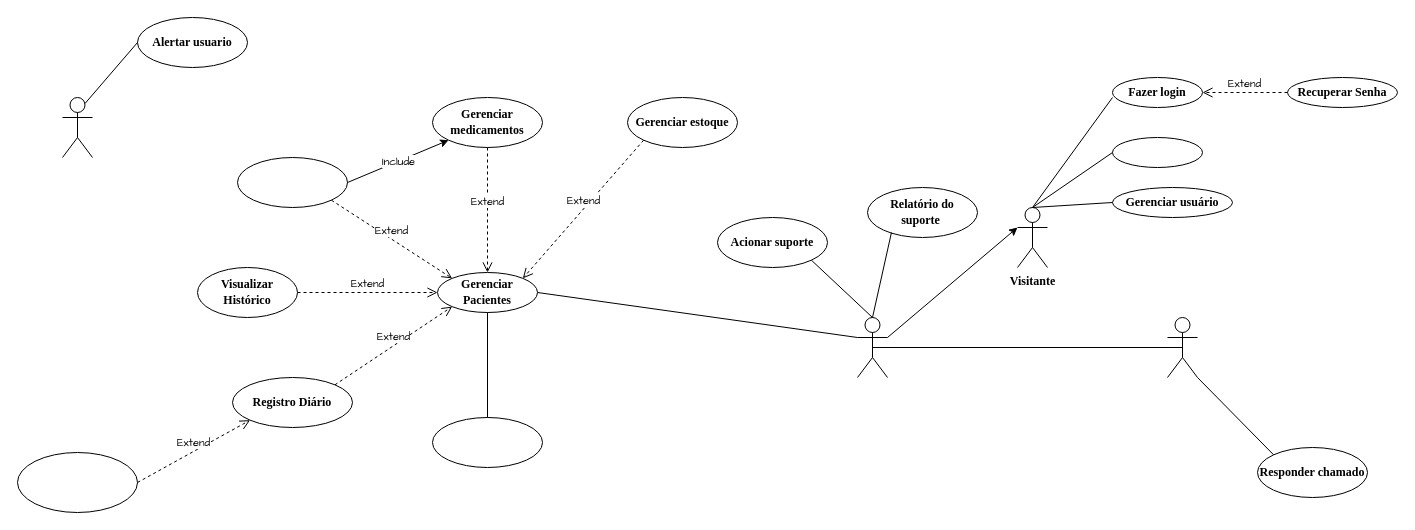
Image size: 1415x530. Some labels were removed from this diagram. Each missing label, with the box of its shape:
Adicionar notas: (16, 452, 138, 512)
Admin: (1166, 316, 1198, 378)
Configurar lebrete: (236, 156, 348, 208)
Fazer logout: (1112, 136, 1202, 168)
Gerar relatório: (432, 416, 542, 468)
Sistema: (62, 96, 92, 158)
Usuário: (856, 316, 888, 378)
